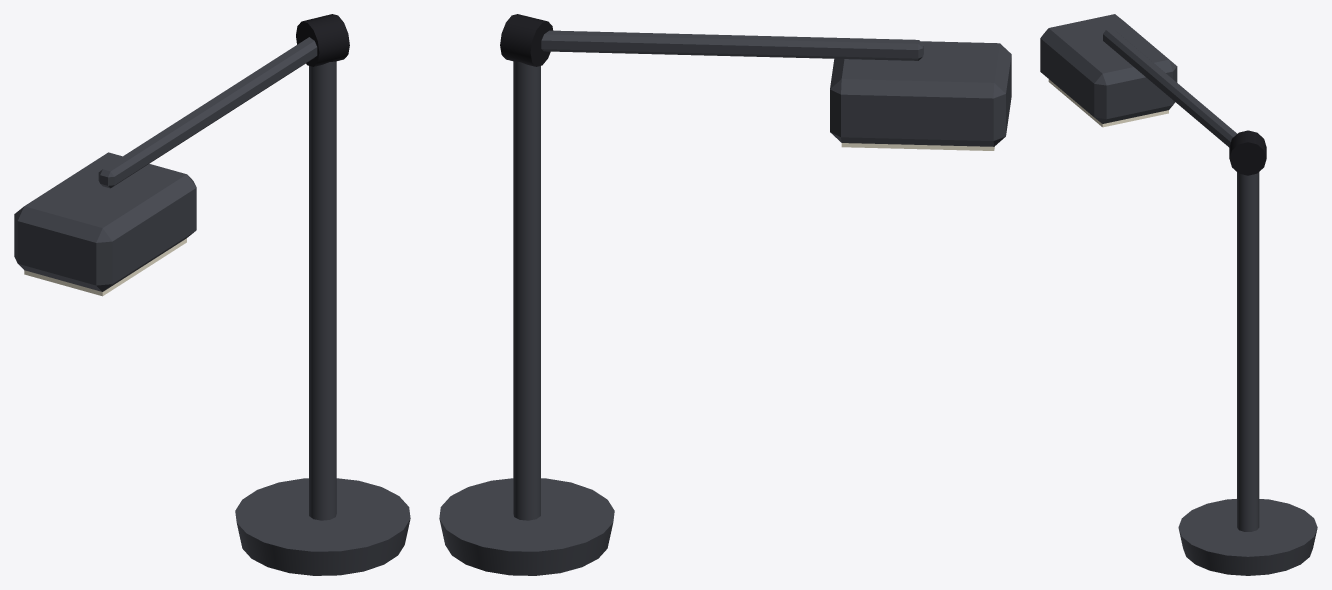
The model's file is luminaria_bancada.obj.
The picture shows the model from 3 angles, left to right: view 1: azimuth 30°, elevation 25°; view 2: azimuth 150°, elevation 25°; view 3: azimuth 270°, elevation 25°; orthographic projection. The views are drawn at different scales.
Parts seen in each view (by area): view 1: luminaria_bancada; view 2: luminaria_bancada; view 3: luminaria_bancada.
Boxes of the visible parts, x1,y1,x2,y2 form: luminaria_bancada: (14,14,410,575); luminaria_bancada: (439,14,1011,575); luminaria_bancada: (1040,14,1317,575).
Bounding box in the file's own units: 0.46 × 0.49 × 0.2988.
